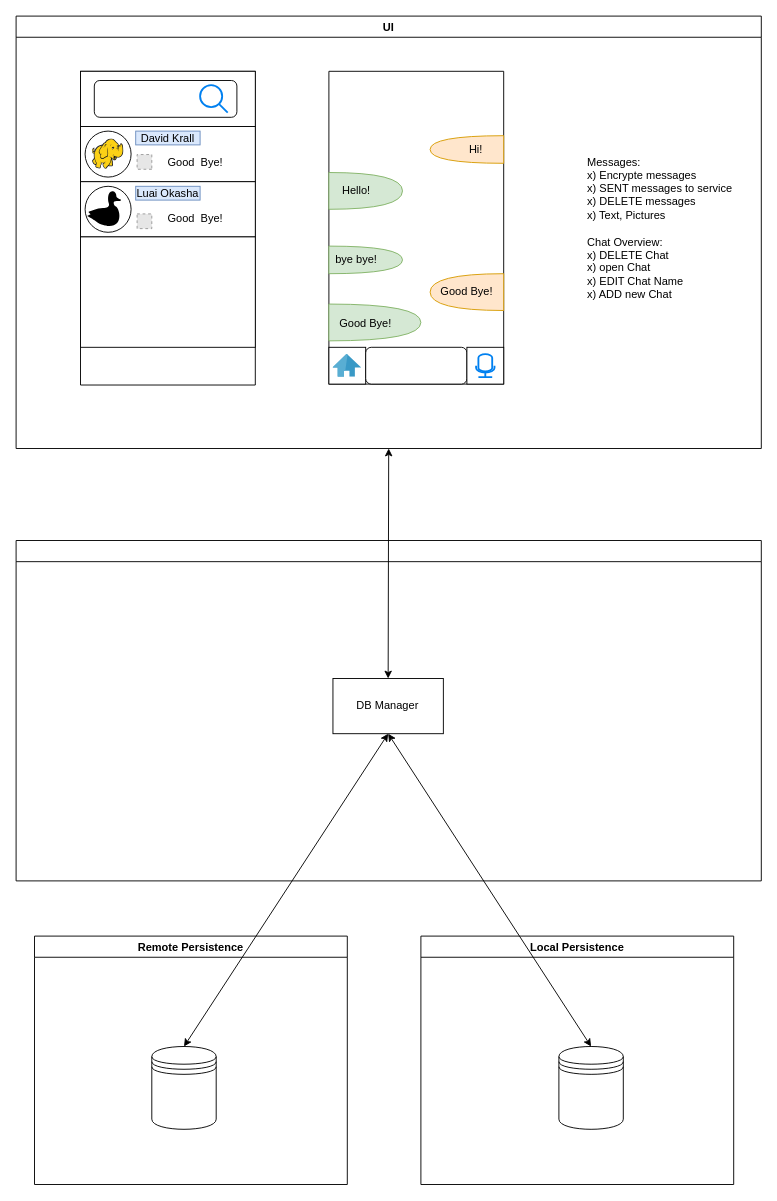
The diagram is 777 pixels wide and 1201 high, and some of its shapes have lost their labels. Grey dashed boxes stand in for pictures. The box of each missing label's shape, as (x1, y1, x2, y2) in pixels:
Local DB: (558, 1046, 623, 1129)
Messages search: (93, 80, 237, 117)
Remote DB: (151, 1046, 216, 1129)
Service: (15, 540, 761, 881)
Type a messege...: (365, 346, 467, 384)
